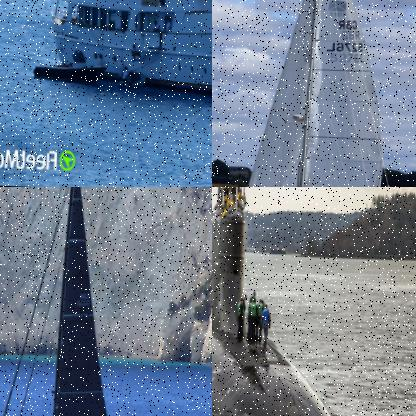Sails Boat: (0, 187, 163, 415), (220, 0, 415, 186)
Submarine: (212, 187, 350, 415)
Yacht: (48, 0, 211, 113)
